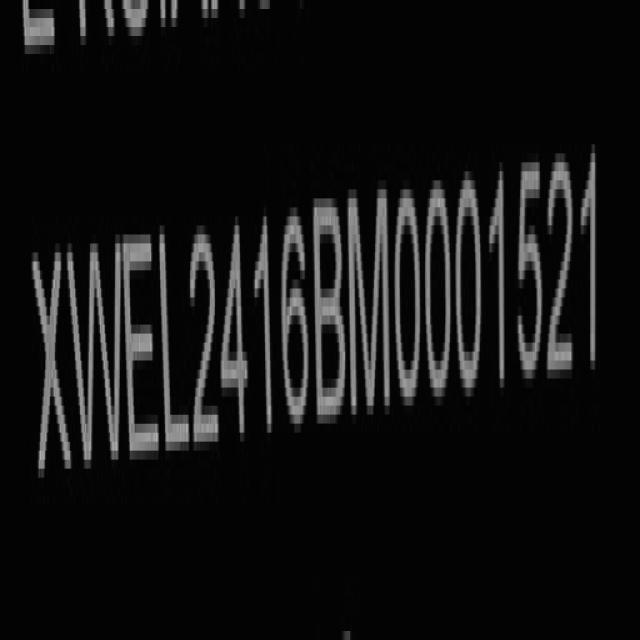0: (395, 178, 424, 416), (456, 165, 484, 402), (425, 175, 453, 407)
1: (580, 137, 600, 390), (488, 151, 508, 399), (254, 208, 274, 450)
2: (192, 225, 222, 467), (550, 150, 578, 392)
4: (222, 220, 250, 459)
5: (518, 148, 544, 398)
6: (282, 202, 312, 440)
B: (313, 192, 347, 435)
E: (126, 232, 160, 473)
L: (161, 230, 189, 468)
M: (346, 184, 392, 424)
W: (73, 230, 124, 486)
X: (34, 241, 69, 494)
